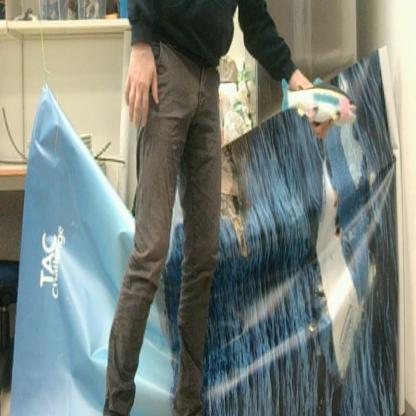rubberfish: (281, 76, 357, 124)
